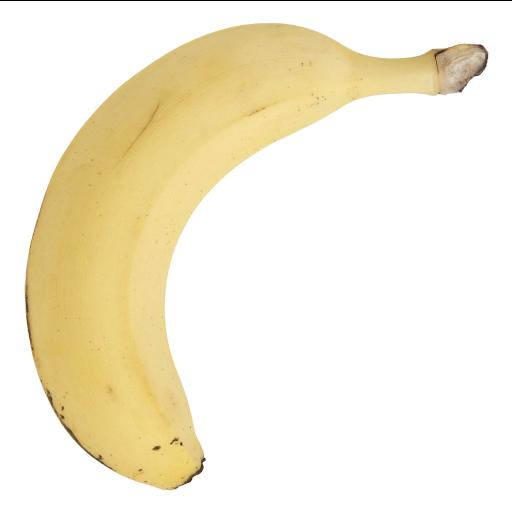banana: (26, 24, 485, 488)
